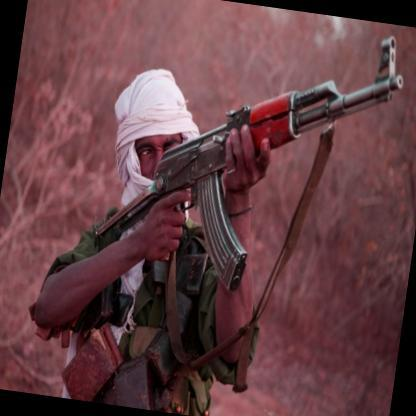rifle: (87, 13, 407, 318)
